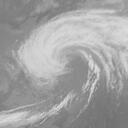cyclone: (18, 15, 95, 89)
